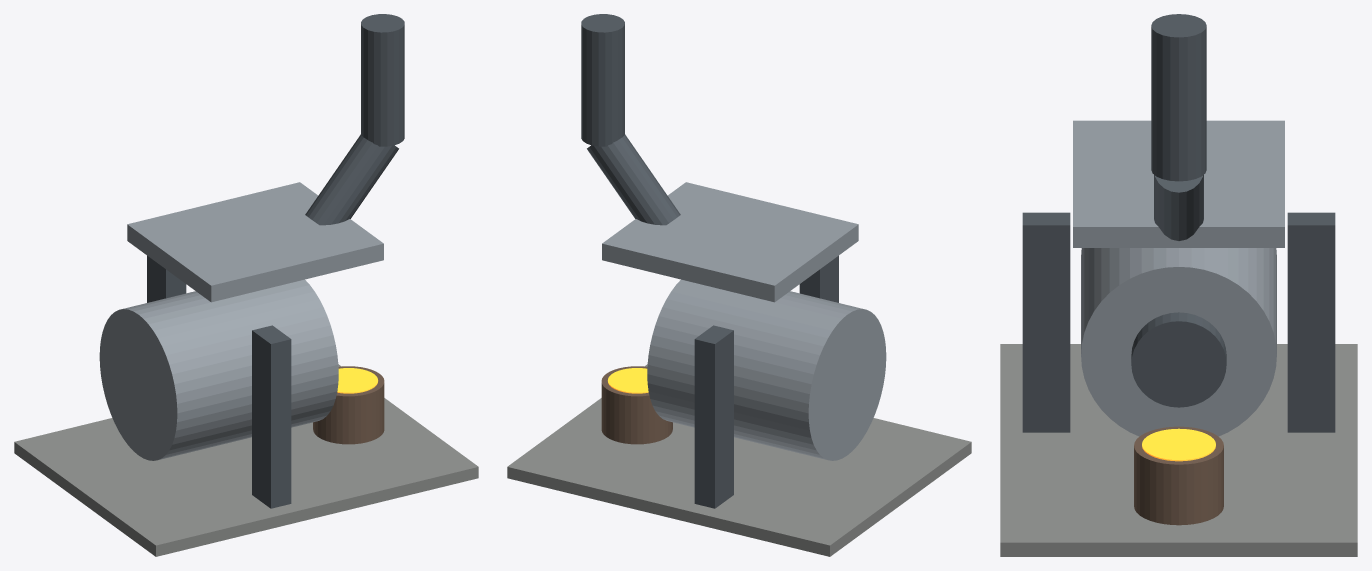
File: SMELTING-FURNACE.glb
3 renders of one model, left to right at view 1: azimuth 30°, elevation 25°; view 2: azimuth 150°, elevation 25°; view 3: azimuth 270°, elevation 25°, orthographic. The views are drawn at different scales.
Visible parts, largest first — view 1: SMELTING-FURNACE_BASE, SMELTING-FURNACE_SHELL, SMELTING-FURNACE_HOOD, SMELTING-FURNACE_SUPPORT_-2.0, SMELTING-FURNACE_STACK, SMELTING-FURNACE_DUCT, SMELTING-FURNACE_CRUCIBLE, SMELTING-FURNACE_SUPPORT_2.0, SMELTING-FURNACE_CRUCIBLE_GLOW; view 2: SMELTING-FURNACE_BASE, SMELTING-FURNACE_SHELL, SMELTING-FURNACE_HOOD, SMELTING-FURNACE_SUPPORT_2.0, SMELTING-FURNACE_STACK, SMELTING-FURNACE_DUCT, SMELTING-FURNACE_CRUCIBLE, SMELTING-FURNACE_SUPPORT_-2.0, SMELTING-FURNACE_CRUCIBLE_GLOW; view 3: SMELTING-FURNACE_BASE, SMELTING-FURNACE_SHELL, SMELTING-FURNACE_HOOD, SMELTING-FURNACE_SUPPORT_2.0, SMELTING-FURNACE_SUPPORT_-2.0, SMELTING-FURNACE_STACK, SMELTING-FURNACE_MOUTH, SMELTING-FURNACE_CRUCIBLE, SMELTING-FURNACE_DUCT, SMELTING-FURNACE_CRUCIBLE_GLOW.
Boxes of the visible parts, bbox=[...] form: SMELTING-FURNACE_BASE: bbox=[14, 364, 478, 556]; SMELTING-FURNACE_SHELL: bbox=[99, 279, 338, 460]; SMELTING-FURNACE_HOOD: bbox=[127, 182, 383, 302]; SMELTING-FURNACE_SUPPORT_-2.0: bbox=[252, 325, 291, 508]; SMELTING-FURNACE_STACK: bbox=[361, 14, 404, 146]; SMELTING-FURNACE_DUCT: bbox=[305, 134, 398, 225]; SMELTING-FURNACE_CRUCIBLE: bbox=[313, 366, 384, 444]; SMELTING-FURNACE_SUPPORT_2.0: bbox=[147, 255, 186, 302]; SMELTING-FURNACE_CRUCIBLE_GLOW: bbox=[337, 368, 378, 393]; SMELTING-FURNACE_BASE: bbox=[507, 364, 971, 556]; SMELTING-FURNACE_SHELL: bbox=[647, 279, 886, 460]; SMELTING-FURNACE_HOOD: bbox=[602, 182, 858, 302]; SMELTING-FURNACE_SUPPORT_2.0: bbox=[694, 325, 733, 508]; SMELTING-FURNACE_STACK: bbox=[581, 14, 624, 146]; SMELTING-FURNACE_DUCT: bbox=[587, 134, 680, 225]; SMELTING-FURNACE_CRUCIBLE: bbox=[601, 366, 672, 444]; SMELTING-FURNACE_SUPPORT_-2.0: bbox=[799, 255, 838, 302]; SMELTING-FURNACE_CRUCIBLE_GLOW: bbox=[607, 368, 648, 393]; SMELTING-FURNACE_BASE: bbox=[1000, 344, 1357, 556]; SMELTING-FURNACE_SHELL: bbox=[1081, 248, 1276, 436]; SMELTING-FURNACE_HOOD: bbox=[1073, 120, 1284, 247]; SMELTING-FURNACE_SUPPORT_2.0: bbox=[1287, 212, 1335, 432]; SMELTING-FURNACE_SUPPORT_-2.0: bbox=[1022, 212, 1070, 432]; SMELTING-FURNACE_STACK: bbox=[1151, 14, 1206, 181]; SMELTING-FURNACE_MOUTH: bbox=[1131, 312, 1226, 407]; SMELTING-FURNACE_CRUCIBLE: bbox=[1134, 426, 1223, 525]; SMELTING-FURNACE_DUCT: bbox=[1154, 175, 1203, 240]; SMELTING-FURNACE_CRUCIBLE_GLOW: bbox=[1142, 428, 1215, 461].
Size of the model in its own units: 7.1 by 8.6 by 5.4.
